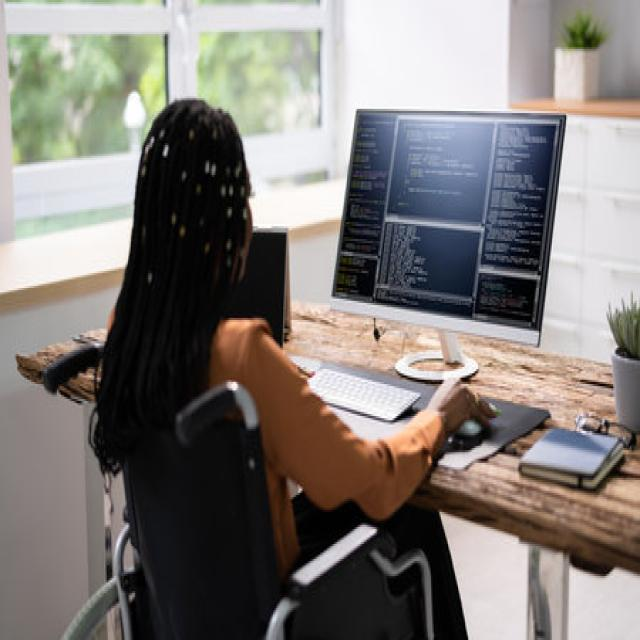desktop-person: (91, 64, 576, 640)
